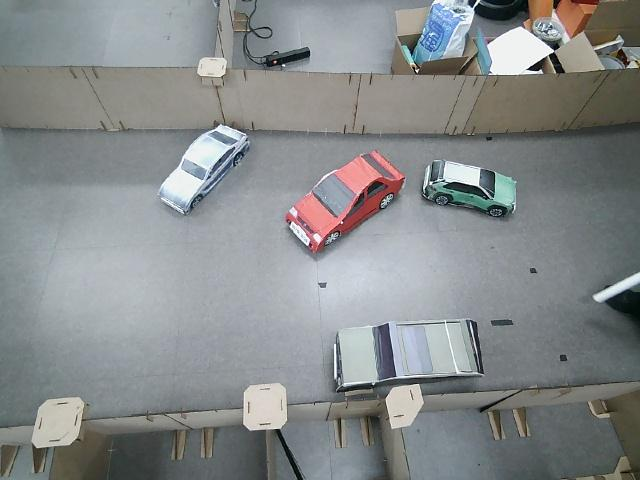car: (283, 149, 407, 255), (331, 317, 485, 398), (156, 123, 252, 218), (421, 158, 518, 219)
